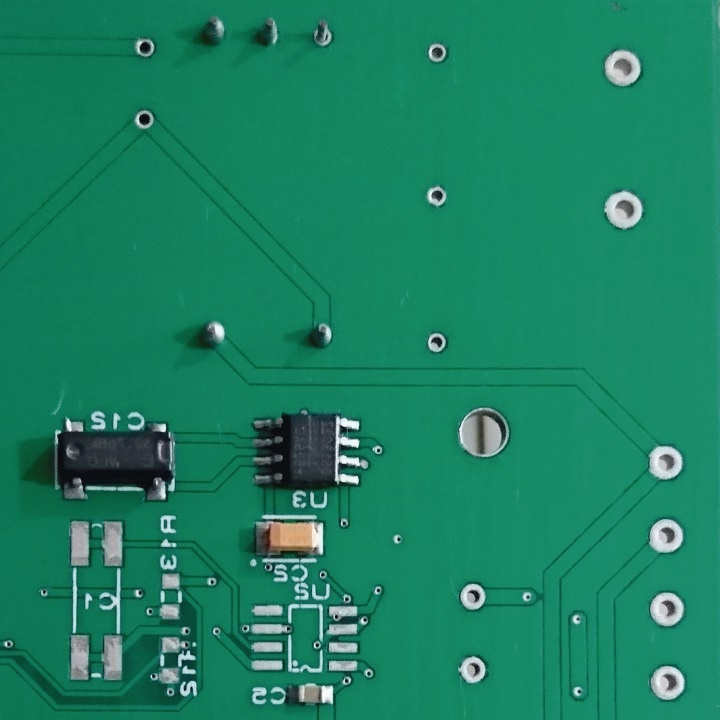F: (601, 186, 650, 235), (600, 44, 646, 92), (644, 440, 687, 484), (646, 661, 689, 703), (645, 517, 688, 556), (649, 589, 689, 629), (456, 651, 492, 686), (458, 580, 489, 612), (311, 20, 334, 49), (131, 109, 159, 132), (426, 183, 448, 211), (133, 36, 158, 60), (427, 40, 450, 66), (425, 329, 447, 356)
